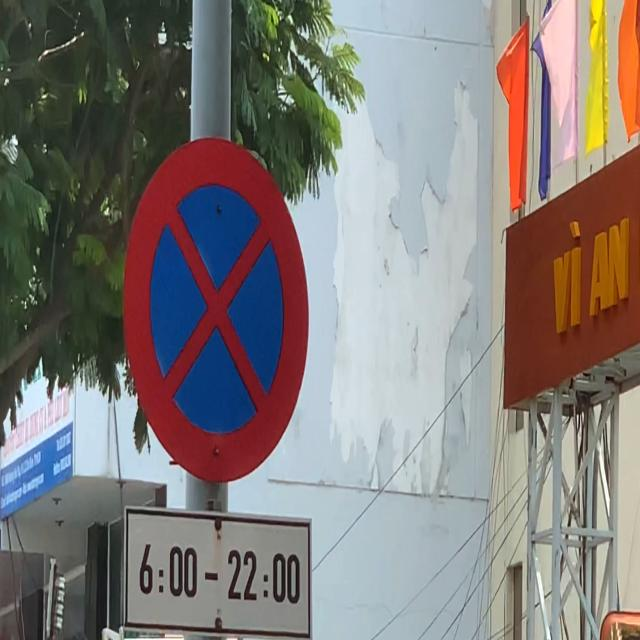Cam dung va do: (117, 126, 313, 495)
